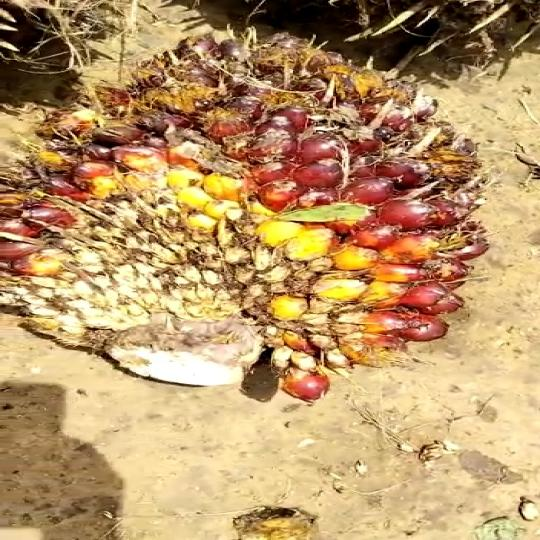kurang masak: (9, 26, 531, 404)
